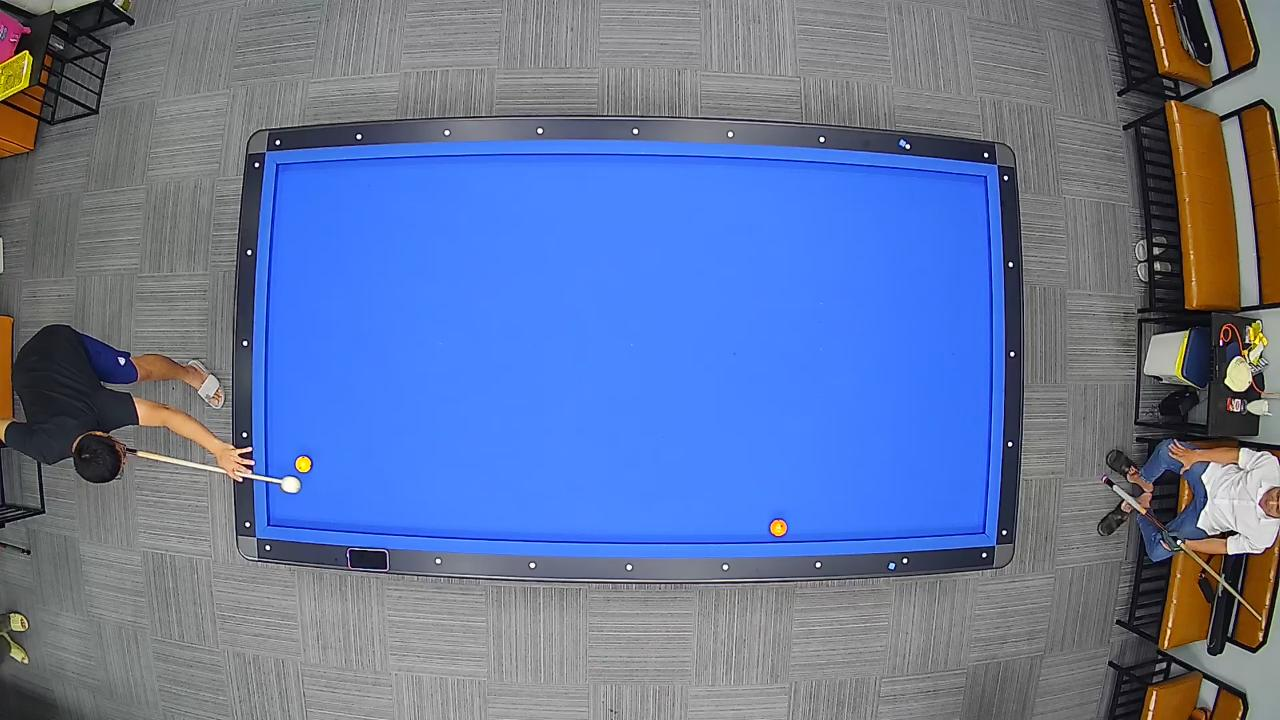Orange: (769, 518, 788, 538)
White: (280, 475, 302, 494)
Yellow: (294, 454, 313, 474)
